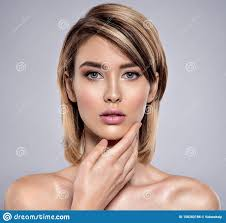white_female: (71, 47, 152, 147)
